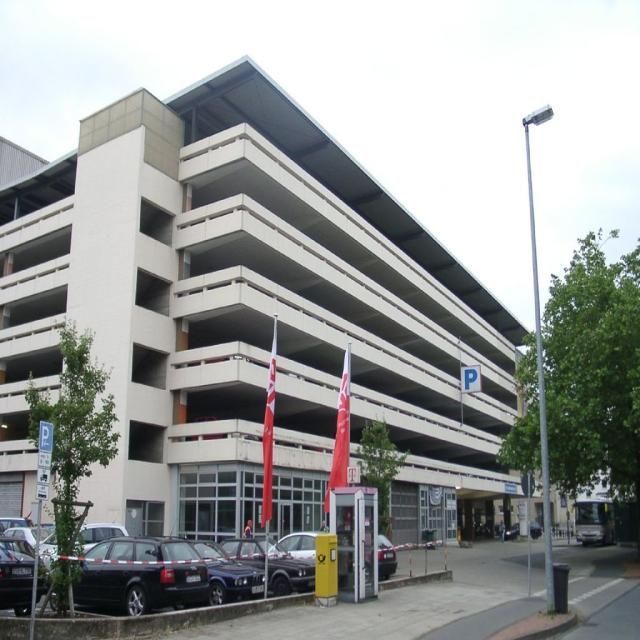car: (57, 536, 231, 619)
